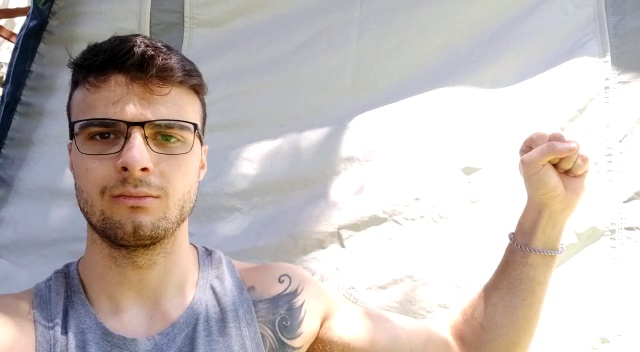Fist: (511, 123, 595, 216)
